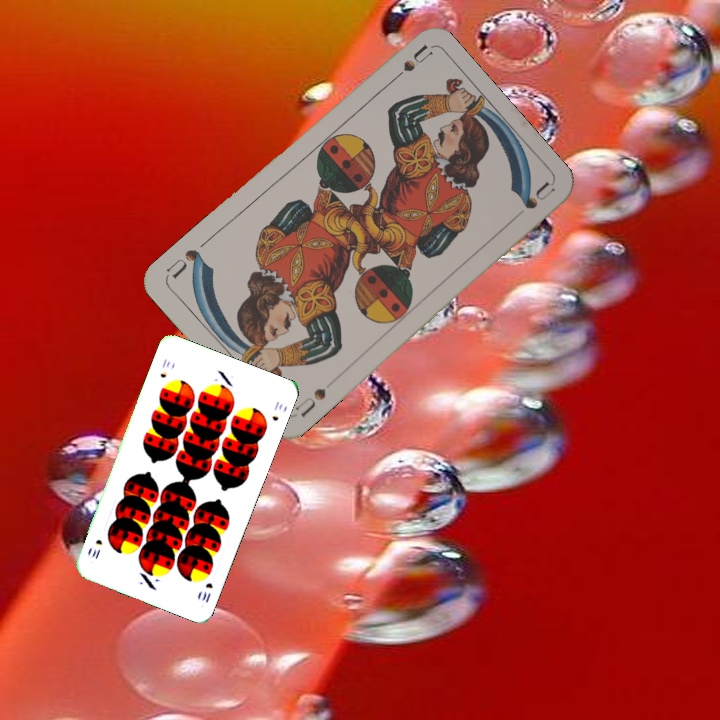S10: (198, 579, 216, 606), (156, 355, 173, 381)
SU: (383, 42, 434, 89), (287, 384, 329, 421)
